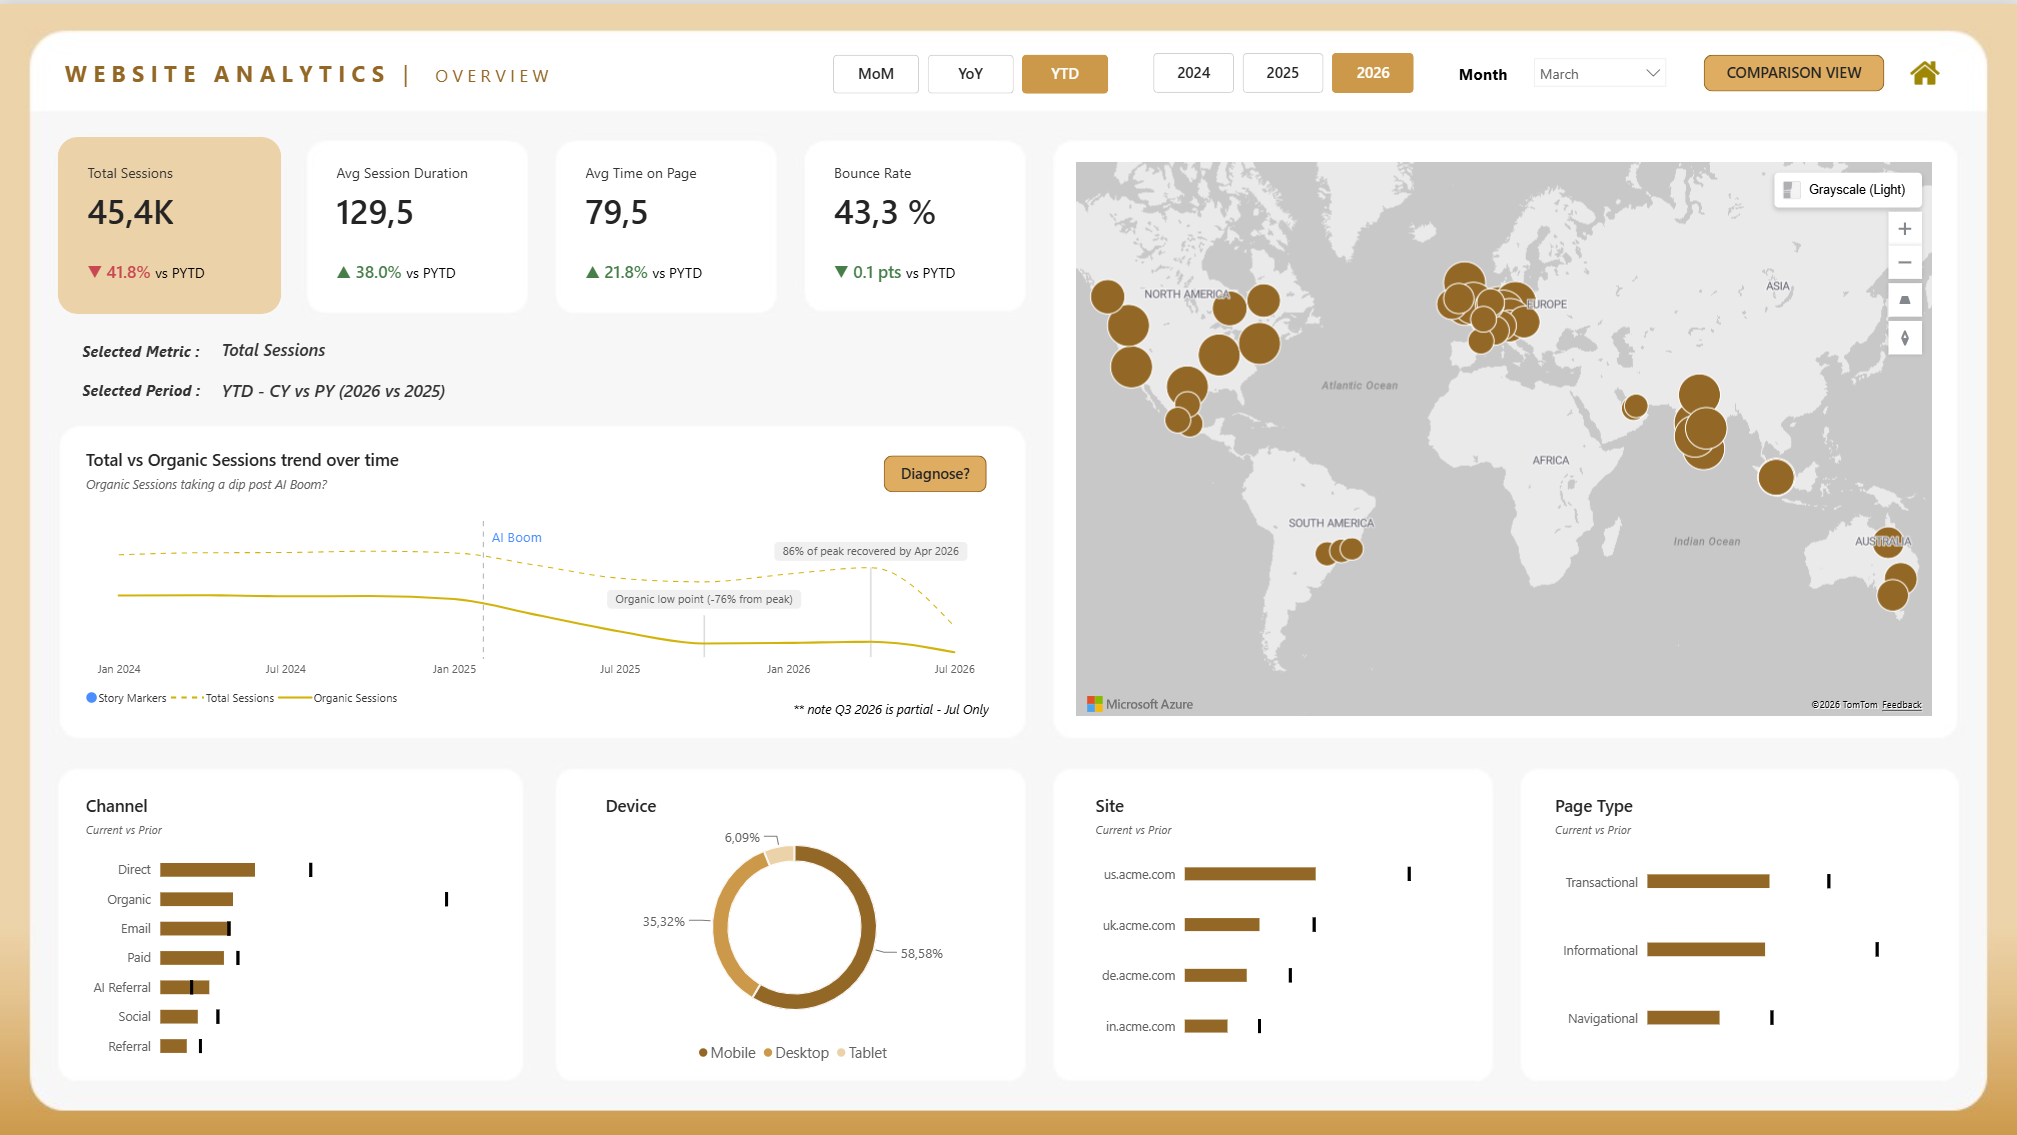

What the dashboard file says about the page in this screenshot:
{"tool":"powerbi","page":{"name":"OVERVIEW","canvas":[1920,1080],"ordinal":1},"visuals":[{"type":"advancedSlicerVisual","fields":{"Values":["Period Compare.Period"]},"box":[794,48.8,262.9,37.1],"z":0},{"type":"cardVisual","fields":{"Data":["_Measures.Selection metric text","_Measures.Selection Period"]},"box":[195.2,313.9,561.4,70],"z":0,"group":"g1"},{"type":"advancedSlicerVisual","fields":{"Values":["dim_date.Year"]},"box":[1098.7,47.4,248.6,38.6],"z":1000},{"type":"textbox","box":[78.6,320.9,300,80],"z":1000,"group":"g1"},{"type":"lineStackedColumnComboChart","title":"Total vs Organic Sessions trend over time","fields":{"Category":["dim_date.QuarterStartDate"],"Y":["_Measures.Recovery Marker"],"Y2":["_Measures.Total Sessions","_Measures.Organic Sessions"]},"box":[61.1,408.6,898.6,285],"z":2000},{"type":"slicer","fields":{"Values":["dim_date.MonthName"]},"box":[1454.3,46.3,135.7,48.6],"z":3000},{"type":"barChart","title":"Channel","fields":{"Category":["dim_channel.Channel"],"Y":["prm_KPI.Selected KPI"]},"box":[61.1,731.4,415.7,298.6],"z":4000},{"type":"barChart","title":"Site","fields":{"Category":["dim_site.Site"],"Y":["prm_KPI.Selected KPI"]},"box":[1022.9,731.4,385.7,288.6],"z":5000},{"type":"donutChart","title":"Device","fields":{"Category":["dim_device.Device Category"],"Y":["prm_KPI.Selected KPI"]},"box":[557.1,731.4,400,300],"z":6000},{"type":"barChart","title":"Page Type","fields":{"Category":["dim_page.PageType"],"Y":["prm_KPI.Selected KPI"]},"box":[1460,731.4,390,288.6],"z":7000},{"type":"azureMap","fields":{"Size":["prm_KPI.Selected KPI"],"X":["dim_geography.Longitude"],"Y":["dim_geography.Latitude"]},"box":[1005.7,137.1,854.3,557],"z":8000},{"type":"shape","box":[54.3,127.1,212.9,168.6],"z":10000},{"type":"shape","box":[291.4,127.1,212.9,168.6],"z":11000},{"type":"shape","box":[527,127,212.9,168.6],"z":12000},{"type":"shape","box":[764,127,213,169],"z":13000},{"type":"cardVisual","fields":{"Data":["_Measures.Total Sessions (display)","_Measures.Avg Session Duration (display)","_Measures.Avg Time on Page (display)","_Measures.Bounce Rate (display)"]},"box":[62.9,144.3,928,158.6],"z":14000},{"type":"advancedSlicerVisual","fields":{"Values":["prm_KPI.prm_KPI"]},"box":[47.5,126.2,928.6,169],"z":15000},{"type":"group","id":"g1","title":"Group 1","box":[78.6,313.9,678,87],"z":16000},{"type":"pageNavigator","box":[1621.9,48.8,172.9,35.7],"z":17000},{"type":"textbox","box":[61.4,51.4,528.6,44.3],"z":18000},{"type":"textbox","box":[1389,56.5,61.4,28.6],"z":19000},{"type":"pageNavigator","box":[841.7,430,98.3,35],"z":20000},{"type":"textbox","box":[681.4,661.4,260,37.1],"z":21000},{"type":"image","box":[1818.4,51.1,28.2,28.2],"z":22000}]}

Visuals, with their boxes in screenshot pixels (x1, y1, x2, y2), scaled from the page's 1920x1080 canvas onto the 2017x1135 screenshot:
advancedSlicerVisual - Period Compare.Period: {"x1": 834, "y1": 51, "x2": 1110, "y2": 90}
cardVisual - _Measures.Selection metric text x _Measures.Selection Period: {"x1": 205, "y1": 330, "x2": 795, "y2": 403}
advancedSlicerVisual - dim_date.Year: {"x1": 1154, "y1": 50, "x2": 1415, "y2": 90}
textbox: {"x1": 83, "y1": 337, "x2": 398, "y2": 421}
"Total vs Organic Sessions trend over time" lineStackedColumnComboChart: {"x1": 64, "y1": 429, "x2": 1008, "y2": 729}
slicer - dim_date.MonthName: {"x1": 1528, "y1": 49, "x2": 1670, "y2": 100}
"Channel" barChart: {"x1": 64, "y1": 769, "x2": 501, "y2": 1082}
"Site" barChart: {"x1": 1075, "y1": 769, "x2": 1480, "y2": 1072}
"Device" donutChart: {"x1": 585, "y1": 769, "x2": 1005, "y2": 1084}
"Page Type" barChart: {"x1": 1534, "y1": 769, "x2": 1943, "y2": 1072}
azureMap - prm_KPI.Selected KPI x dim_geography.Longitude: {"x1": 1057, "y1": 144, "x2": 1954, "y2": 729}
shape: {"x1": 57, "y1": 134, "x2": 281, "y2": 311}
shape: {"x1": 306, "y1": 134, "x2": 530, "y2": 311}
shape: {"x1": 554, "y1": 133, "x2": 777, "y2": 311}
shape: {"x1": 803, "y1": 133, "x2": 1026, "y2": 311}
cardVisual - _Measures.Total Sessions (display) x _Measures.Avg Session Duration (display): {"x1": 66, "y1": 152, "x2": 1041, "y2": 318}
advancedSlicerVisual - prm_KPI.prm_KPI: {"x1": 50, "y1": 133, "x2": 1025, "y2": 310}
"Group 1" group: {"x1": 83, "y1": 330, "x2": 795, "y2": 421}
pageNavigator: {"x1": 1704, "y1": 51, "x2": 1885, "y2": 89}
textbox: {"x1": 65, "y1": 54, "x2": 620, "y2": 101}
textbox: {"x1": 1459, "y1": 59, "x2": 1524, "y2": 89}
pageNavigator: {"x1": 884, "y1": 452, "x2": 987, "y2": 489}
textbox: {"x1": 716, "y1": 695, "x2": 989, "y2": 734}
image: {"x1": 1910, "y1": 54, "x2": 1940, "y2": 83}
